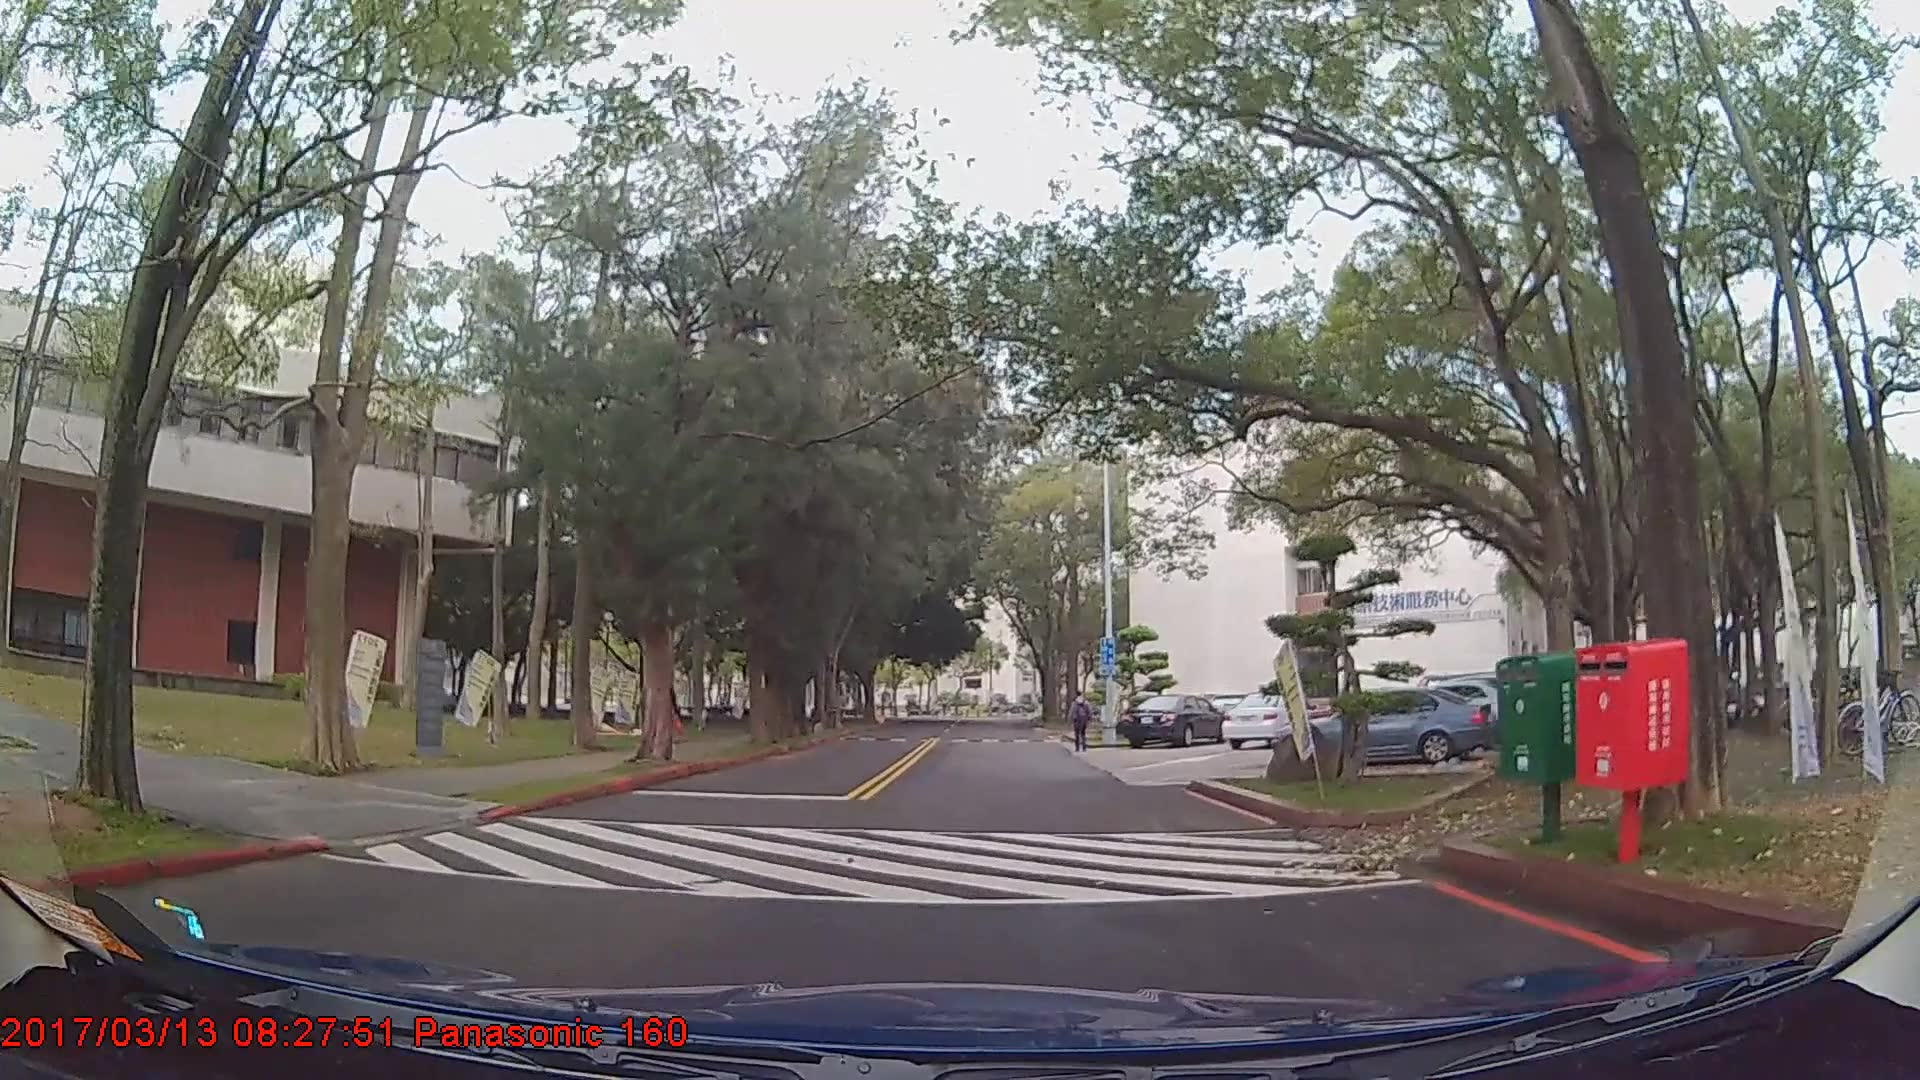pedestrian: (1069, 691, 1096, 753)
vehicle: (1274, 681, 1493, 772), (1114, 694, 1224, 746), (1219, 689, 1299, 748)
